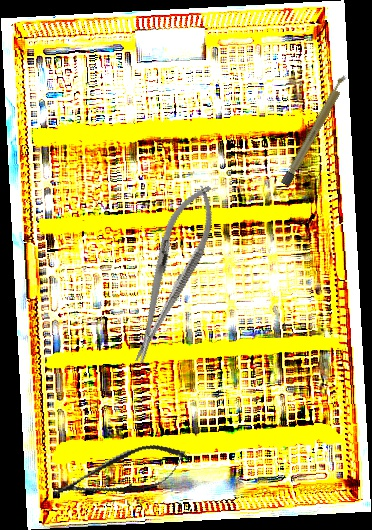Micro Scissor: (47, 435, 194, 514)
Needle Holder: (116, 177, 227, 370)
Scalpel Handle: (280, 72, 351, 188)
